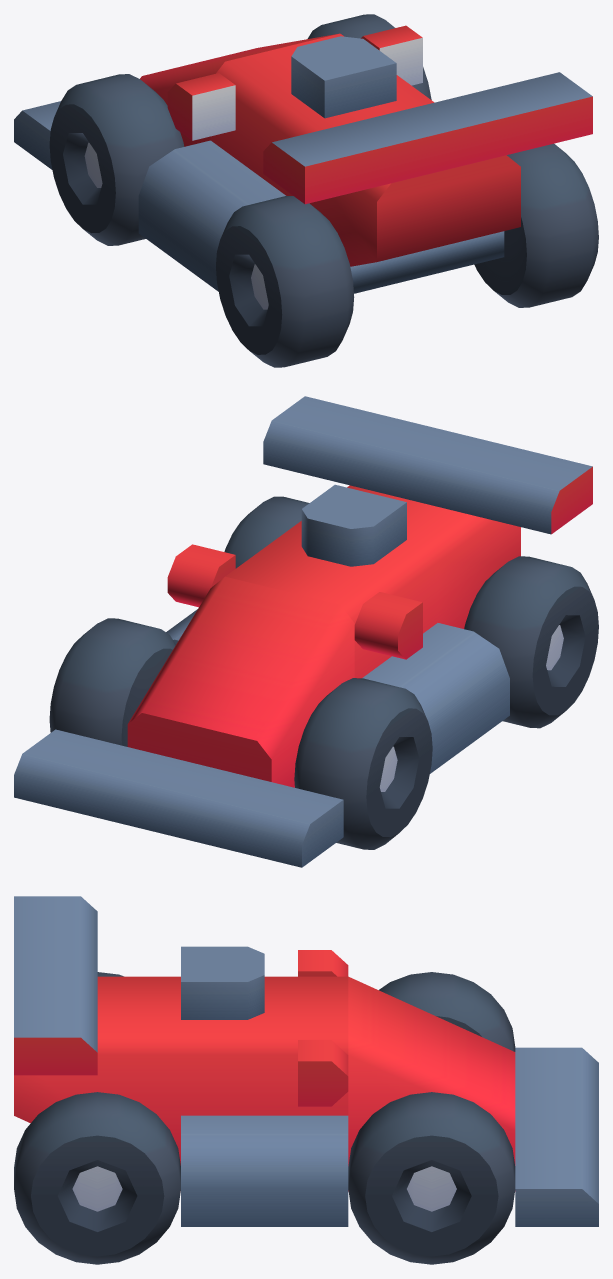
File: vehicle-speedster.fbx
3 views of the same model, one above another, from view 1: azimuth 30°, elevation 25°; view 2: azimuth 150°, elevation 25°; view 3: azimuth 270°, elevation 25° (orthographic).
Visible parts, largest first — view 1: vehicle-speedster, wheel-bl, wheel-fl, wheel-br, wheel-fr; view 2: vehicle-speedster, wheel-fl, wheel-bl, wheel-fr, wheel-br; view 3: vehicle-speedster, wheel-fr, wheel-br, wheel-fl.
Boxes of the visible parts, x1=… form: vehicle-speedster: x1=14, y1=25, x2=592, y2=293; wheel-bl: x1=216, y1=196, x2=354, y2=367; wheel-fl: x1=49, y1=74, x2=184, y2=245; wheel-br: x1=474, y1=143, x2=598, y2=307; wheel-fr: x1=307, y1=14, x2=431, y2=99; vehicle-speedster: x1=14, y1=396, x2=592, y2=867; wheel-fl: x1=294, y1=678, x2=432, y2=849; wheel-bl: x1=464, y1=556, x2=598, y2=728; wheel-fr: x1=49, y1=618, x2=175, y2=746; wheel-br: x1=224, y1=496, x2=309, y2=568; vehicle-speedster: x1=14, y1=896, x2=598, y2=1226; wheel-fr: x1=348, y1=1092, x2=515, y2=1264; wheel-br: x1=14, y1=1092, x2=180, y2=1264; wheel-fl: x1=379, y1=972, x2=515, y2=1051.
Size of the model in its own units: 55 by 37.5 by 87.5.
